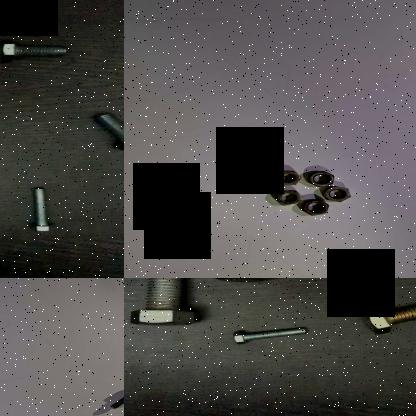Bolts: (124, 278, 199, 334), (229, 316, 311, 353), (352, 298, 416, 336), (0, 35, 72, 66), (22, 178, 58, 236), (89, 107, 124, 152), (108, 381, 124, 408)
NUTS: (298, 196, 330, 218), (306, 168, 336, 188), (322, 185, 353, 203), (272, 188, 306, 204), (272, 168, 302, 186)
